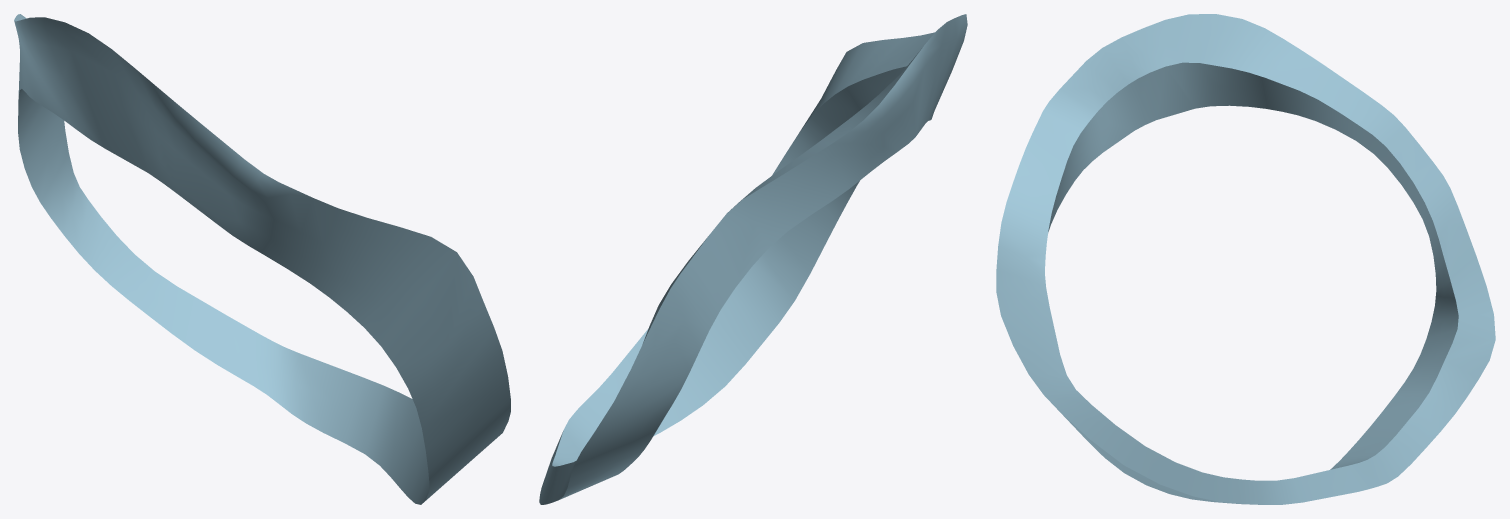
The model's file is articulacoes-acetabular-labrum-r.glb.
3 renders of one model, left to right at view 1: azimuth 30°, elevation 25°; view 2: azimuth 150°, elevation 25°; view 3: azimuth 270°, elevation 25°, orthographic. The views are drawn at different scales.
Parts seen in each view (by area): view 1: Acetabular labrum.r; view 2: Acetabular labrum.r; view 3: Acetabular labrum.r.
Boxes of the visible parts, left/top/right/bottom form: Acetabular labrum.r: left=14, top=14, right=510, bottom=504; Acetabular labrum.r: left=539, top=14, right=967, bottom=504; Acetabular labrum.r: left=996, top=14, right=1495, bottom=504.
Size of the model in its own units: 0.0353 by 0.0478 by 0.0573.
